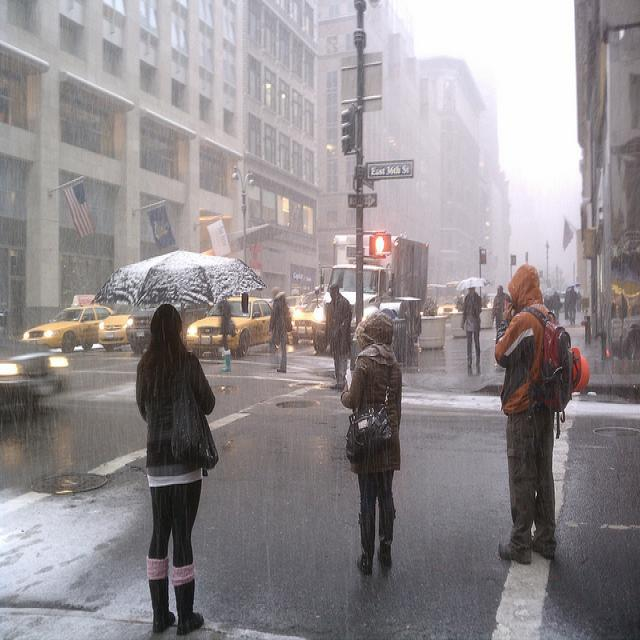fire_hydrant: (581, 316, 590, 344)
